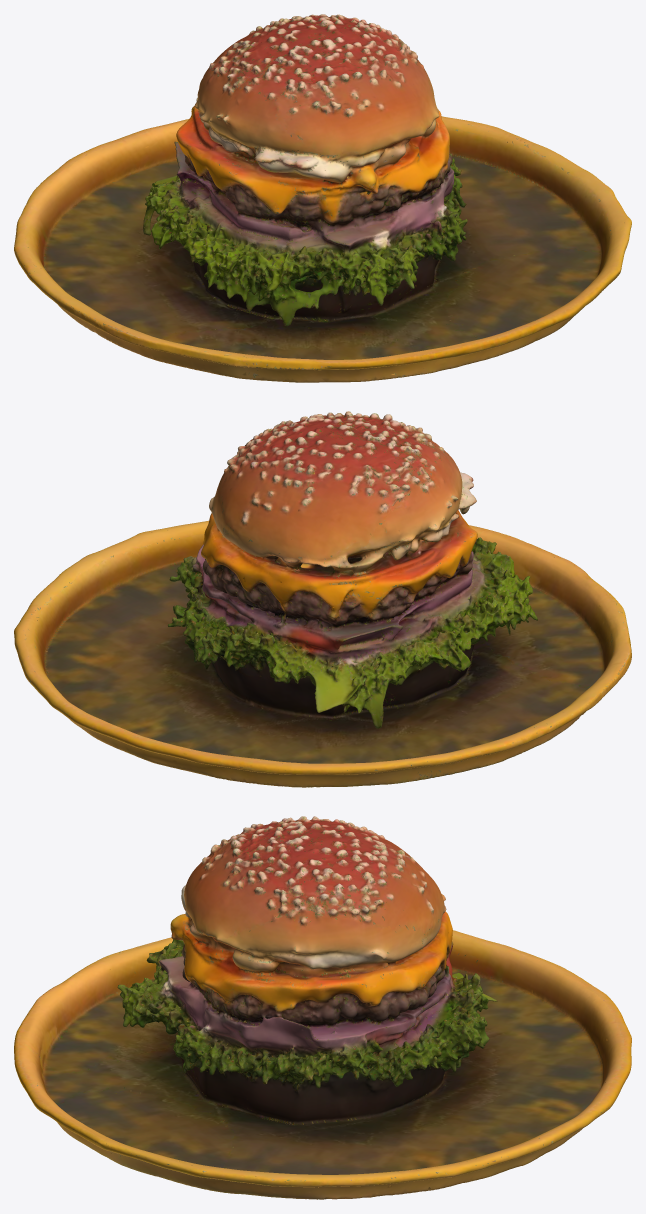
File: Meshy_AI_Double_Stack_Deluxe_B_0410124700_texture.compressed.glb
3 views of the same model, one above another, from view 1: azimuth 30°, elevation 25°; view 2: azimuth 150°, elevation 25°; view 3: azimuth 270°, elevation 25° (orthographic).
Bounding box in the file's own units: 2 × 0.8515 × 2.
1 material, 1 textured.
